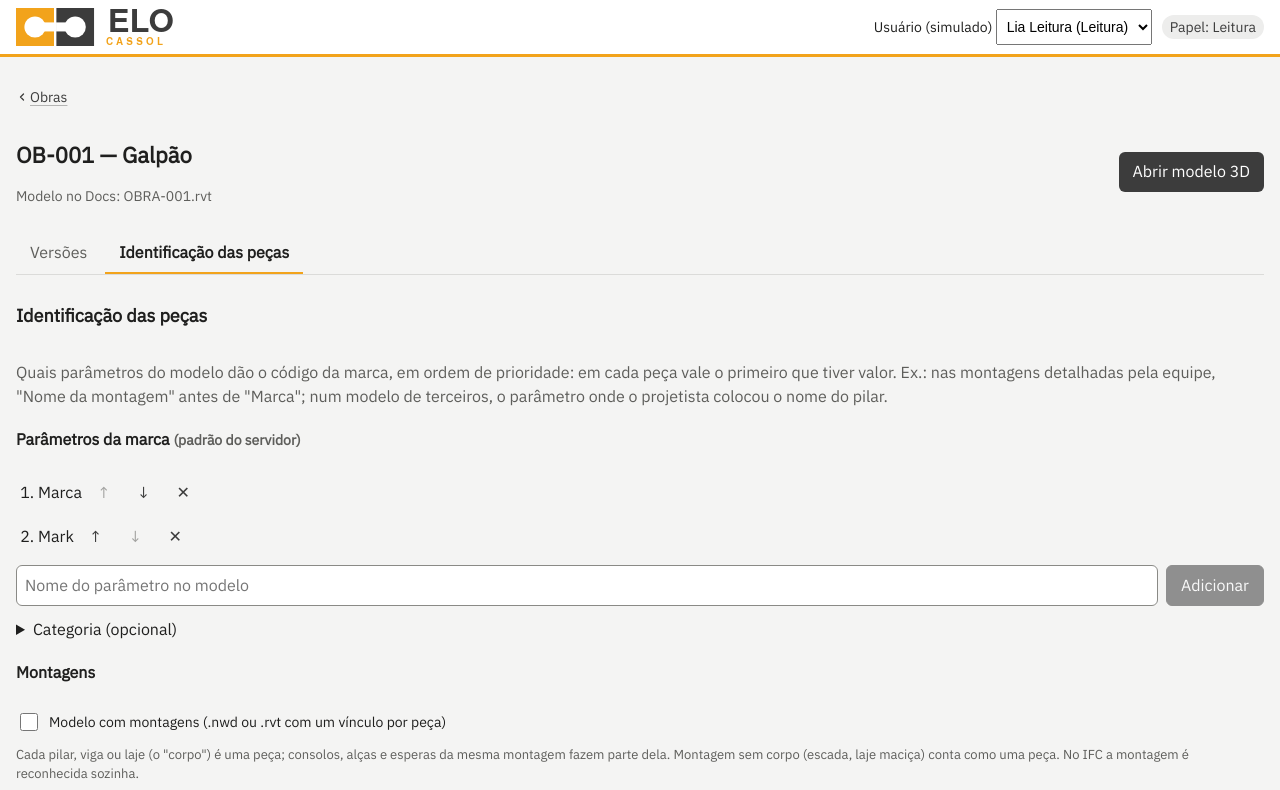
Scenario: Aba Identificação das peças › liga o modo montagens com as categorias do corpo sugeridas
Click the checkbox labelled "Modelo com montagens (.nwd ou .rvt com um vínculo por peça)".
click(29, 722)  # box [20, 713, 38, 731]
(page scrolled)
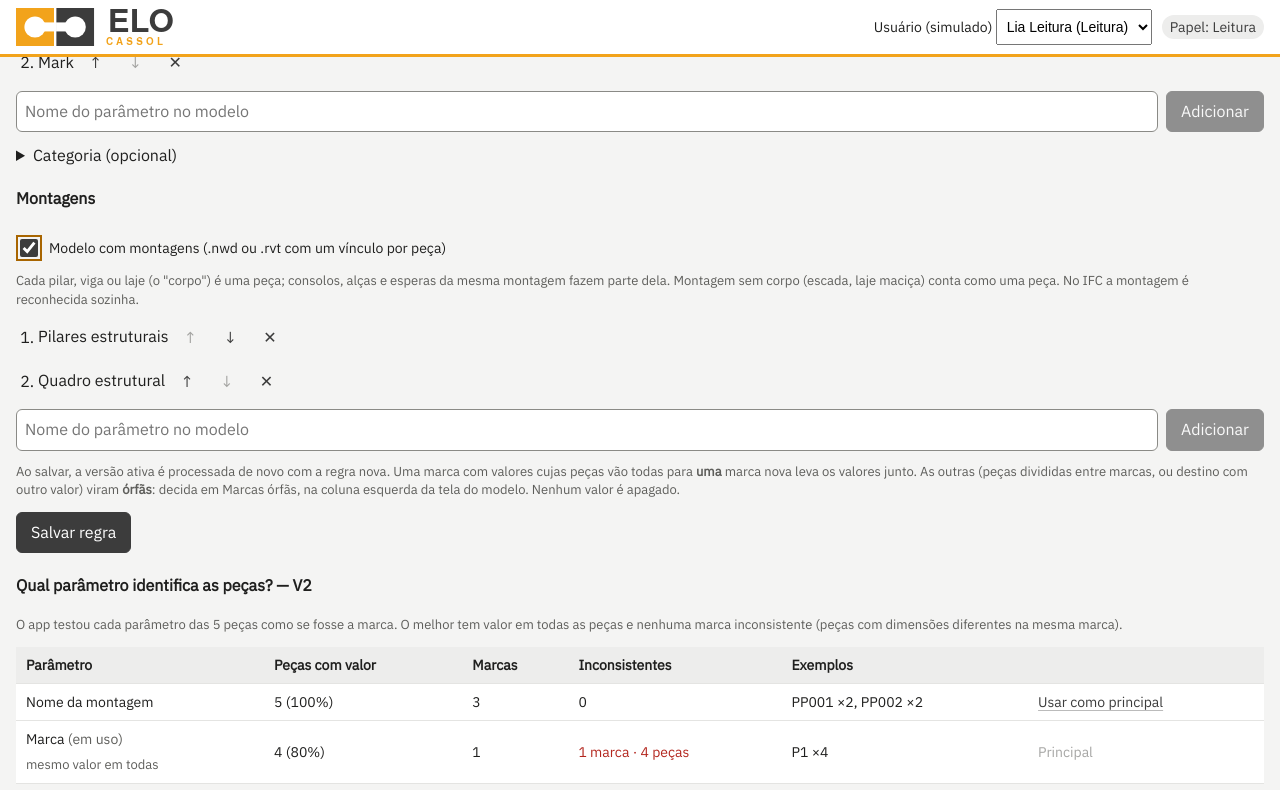
Click the button "Salvar regra".
click(74, 533)  # box [16, 512, 131, 554]
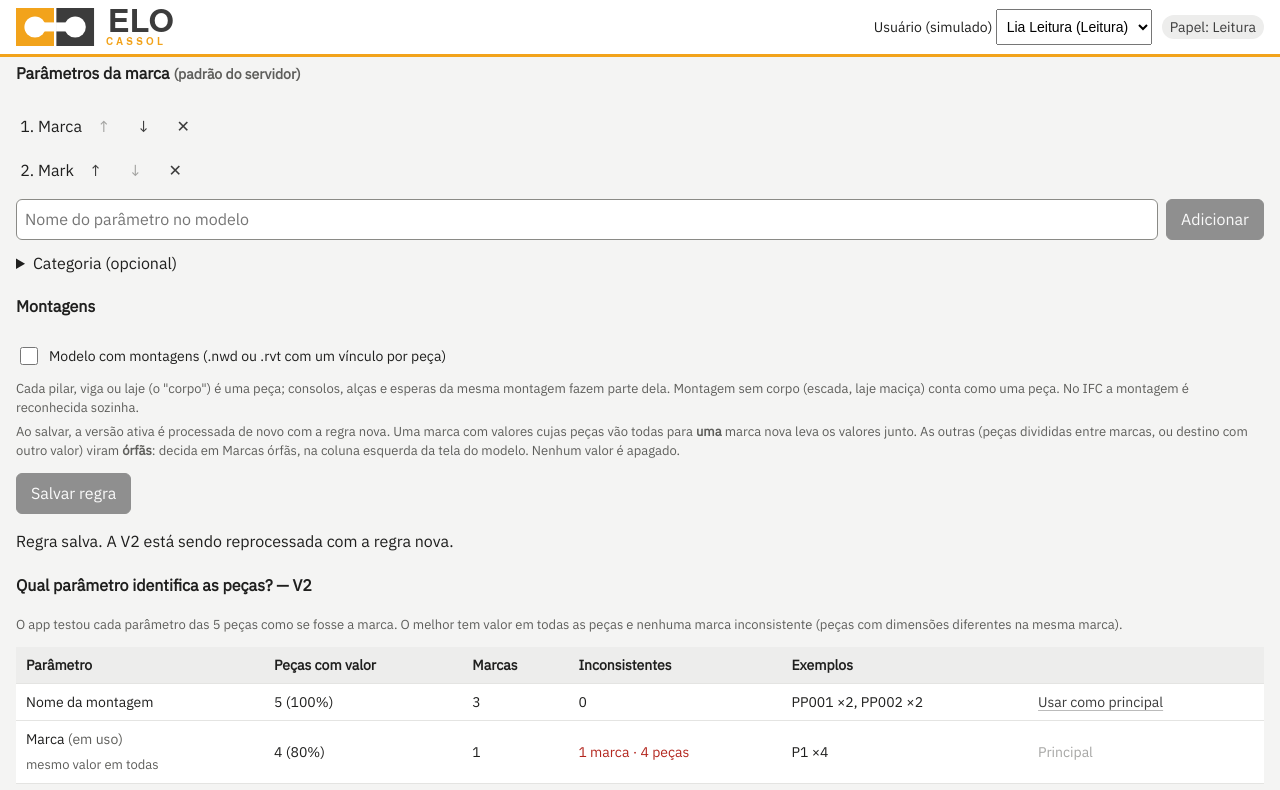
Now the message shows "Regra salva", box [16, 531, 454, 551]
